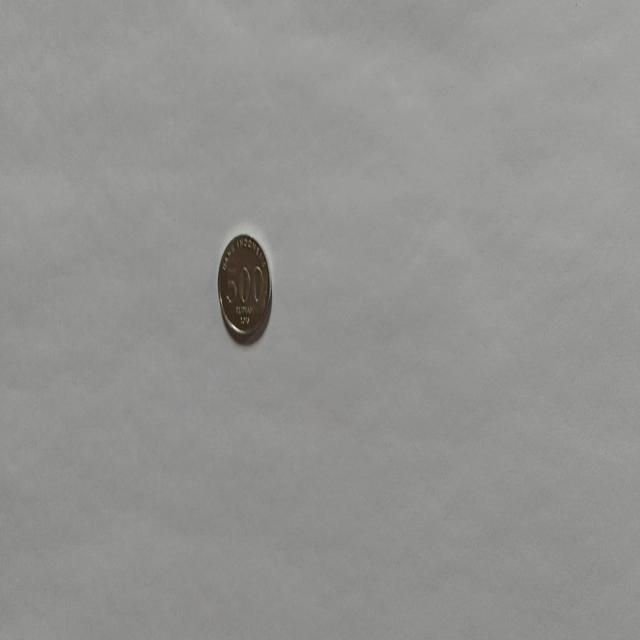lima ratus rupiah: (216, 231, 272, 342)
